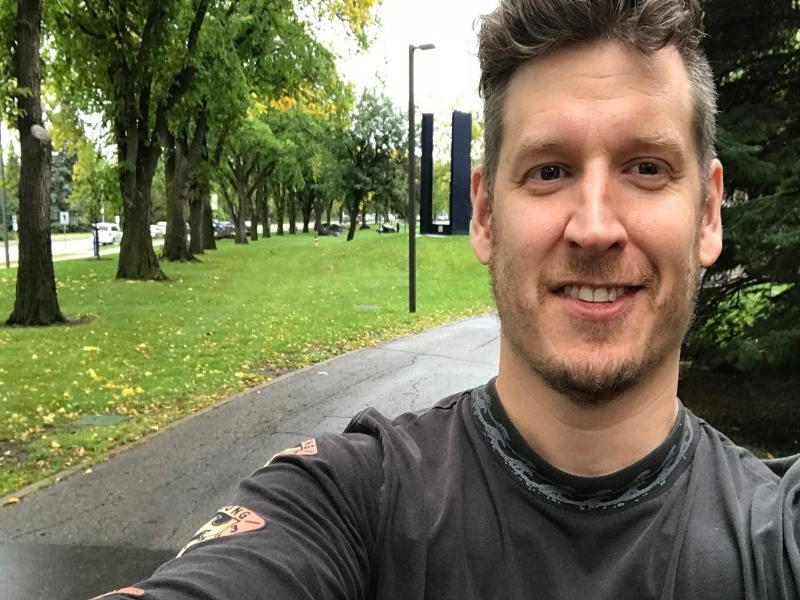smile: (495, 46, 694, 390)
